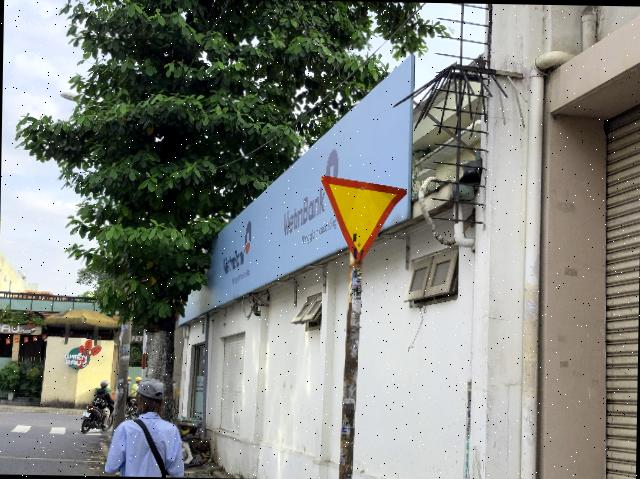giao-nhau-voi-duong-uu-tien: (320, 174, 408, 264)
